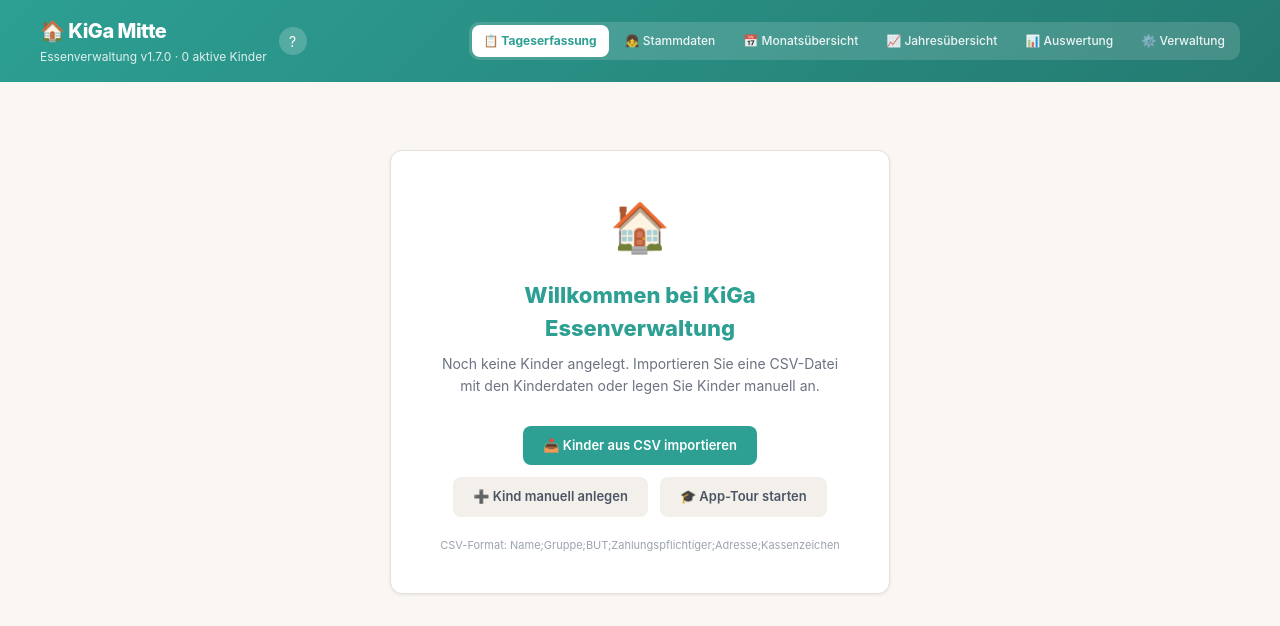
App › shows EmptyState only on daily tab, other tabs accessible
Check: the text "Willkommen bei KiGa Essenverwaltung" is shown, box [524,282,756,341]
// Click Stammdaten tab
Click the button "👧 Stammdaten". click: (670, 41)
box: [613,25,727,57]
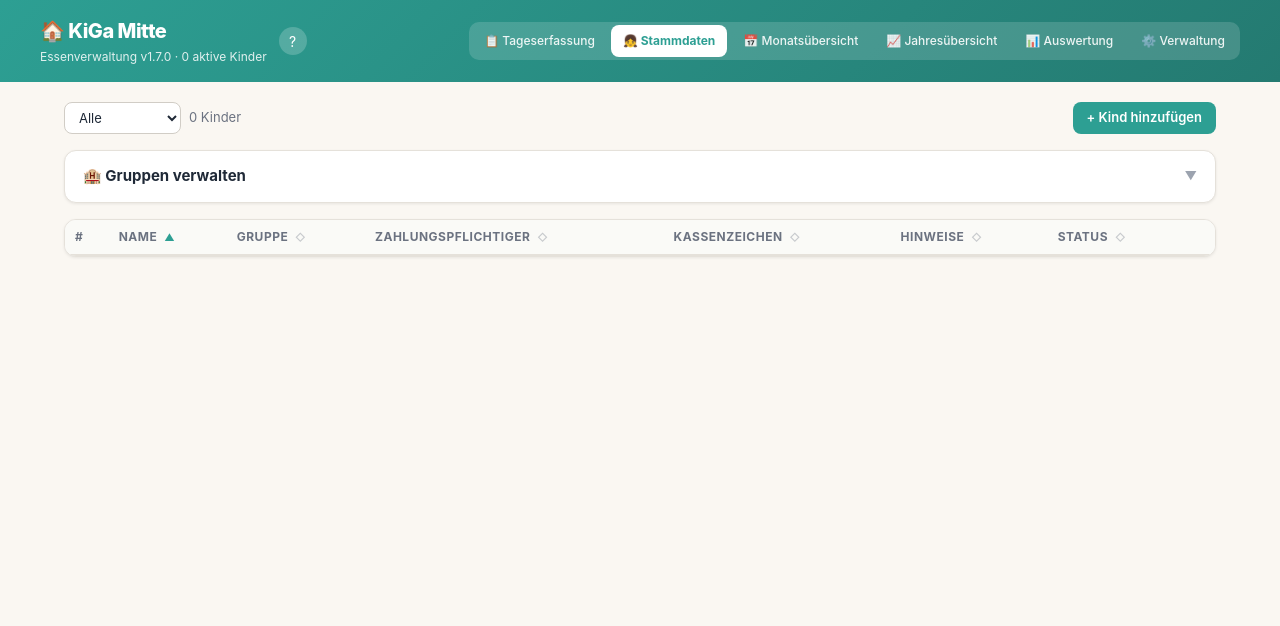
Check: the button "+ Kind hinzufügen" is shown, box [1072,102,1216,134]
// Click Verwaltung tab
Click the button "⚙️ Verwaltung". click: (1183, 41)
box: [1129,25,1237,57]
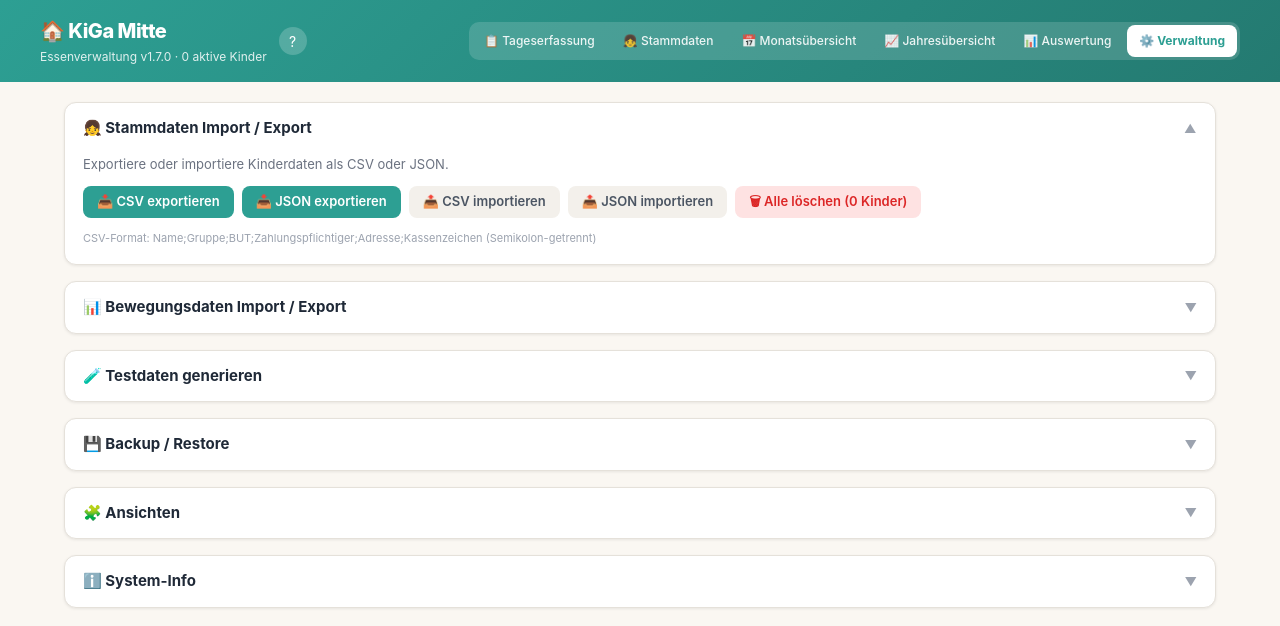
Check: the text "💾 Backup / Restore" is shown, box [83,433,229,456]
